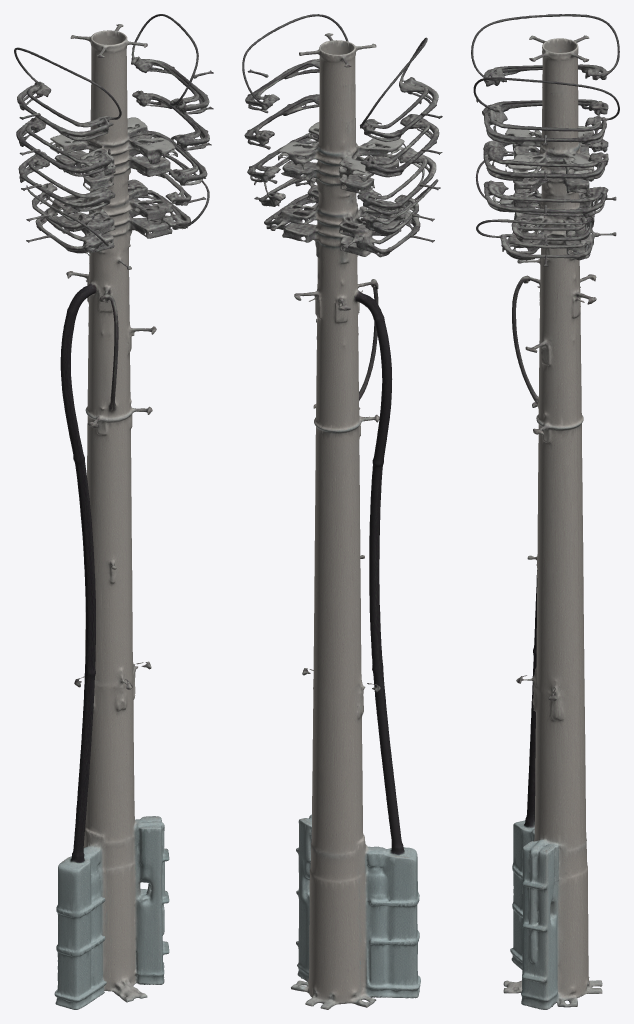
The model's file is Meshy_AI_Power_Lines_Against_a_0603065610_texture.glb.
3 views of the same model, side by side, from view 1: azimuth 30°, elevation 25°; view 2: azimuth 150°, elevation 25°; view 3: azimuth 270°, elevation 25° (orthographic).
Size of the model in its own units: 0.4045 by 1.9 by 0.2718.
Materials: 1 (1 with a texture image).
